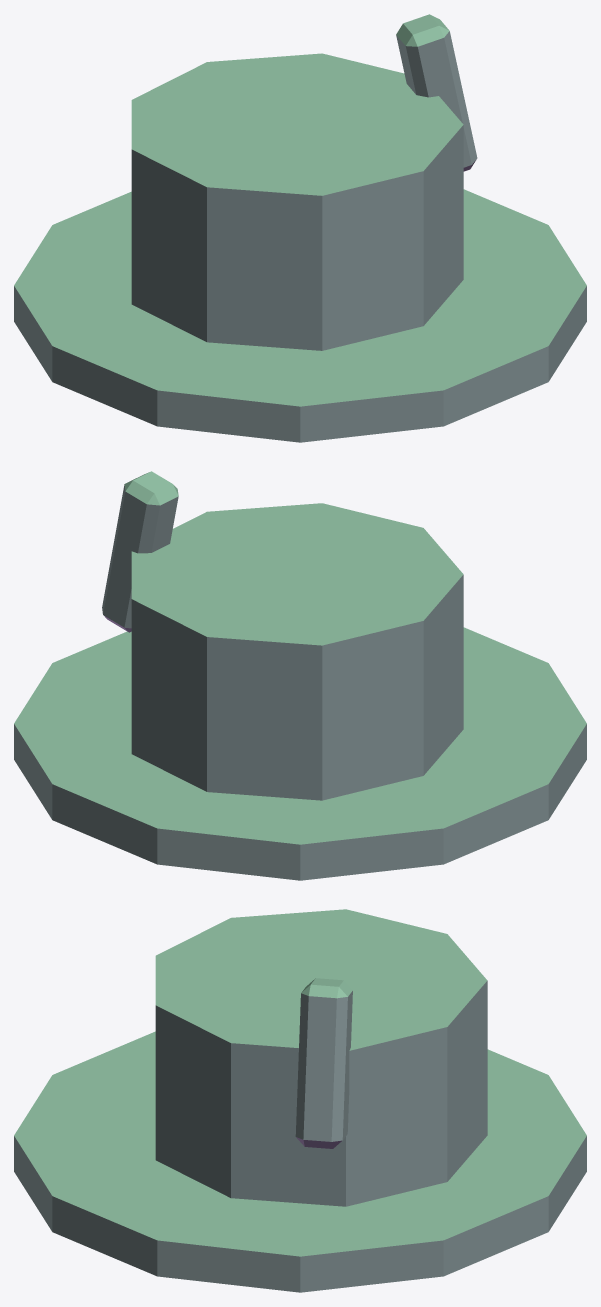
The model's file is npc_module_hat_v01.glb.
The picture shows the model from 3 angles, top to bottom: view 1: azimuth 30°, elevation 25°; view 2: azimuth 150°, elevation 25°; view 3: azimuth 270°, elevation 25°; orthographic projection.
Visible parts, largest first — view 1: GEO_npc_module_hat_v01; view 2: GEO_npc_module_hat_v01; view 3: GEO_npc_module_hat_v01.
Boxes of the visible parts, x1,y1,x2,y2 form: GEO_npc_module_hat_v01: (14, 14, 586, 442); GEO_npc_module_hat_v01: (14, 471, 586, 880); GEO_npc_module_hat_v01: (14, 909, 586, 1292).
Bounding box in the file's own units: 1.44 × 0.713 × 1.44.
